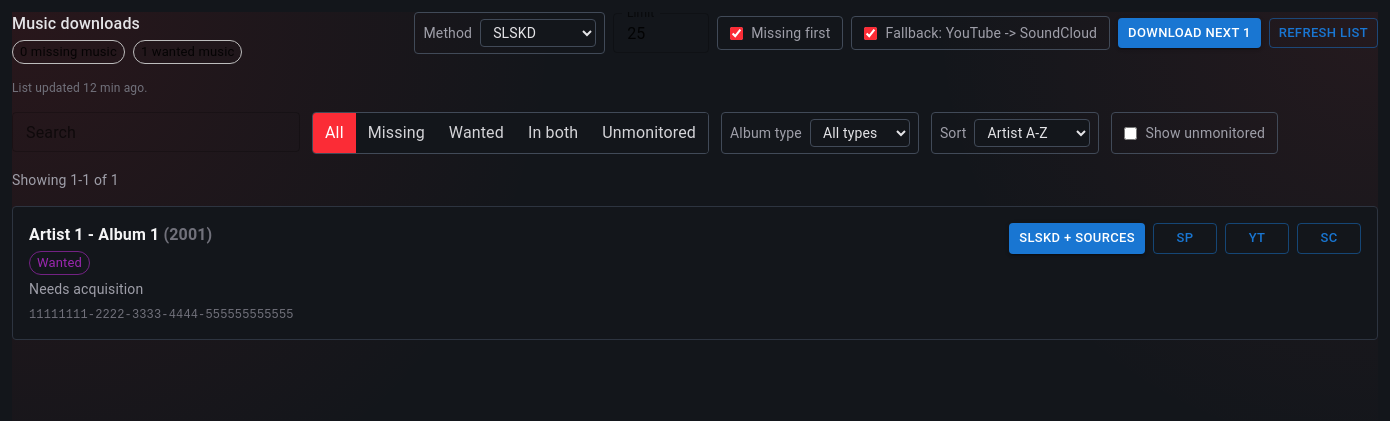
Scenario: Find Music downloads › Download All 409 queue_not_ready says the list is still building
This screenshot has width=1390, height=421.
Click the button "Download next 1": coordinates (1189, 33) [1118, 18, 1261, 48]
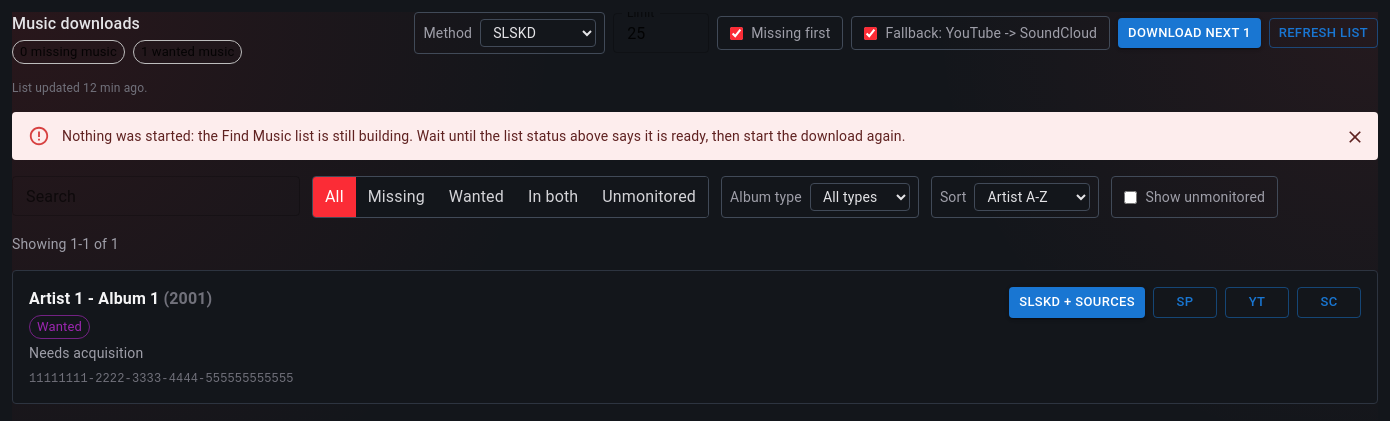
Result: the text "Nothing was started: the Find Music list is still building" is shown at [62, 128, 906, 144]
